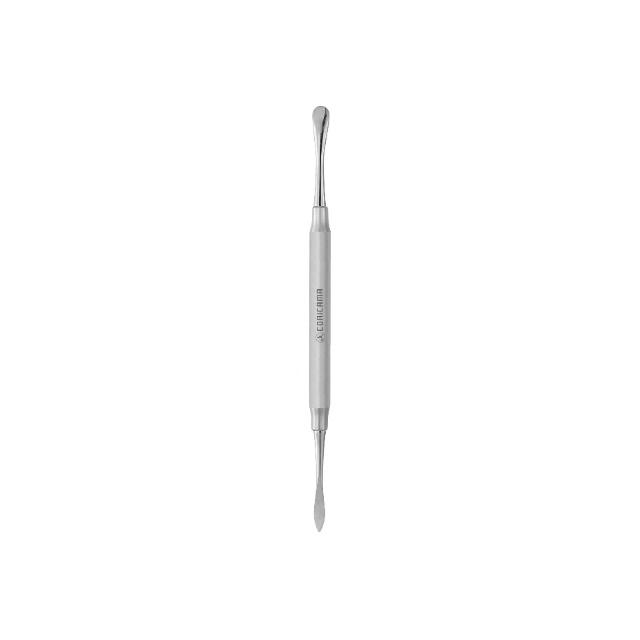elevador: (306, 105, 335, 537)
